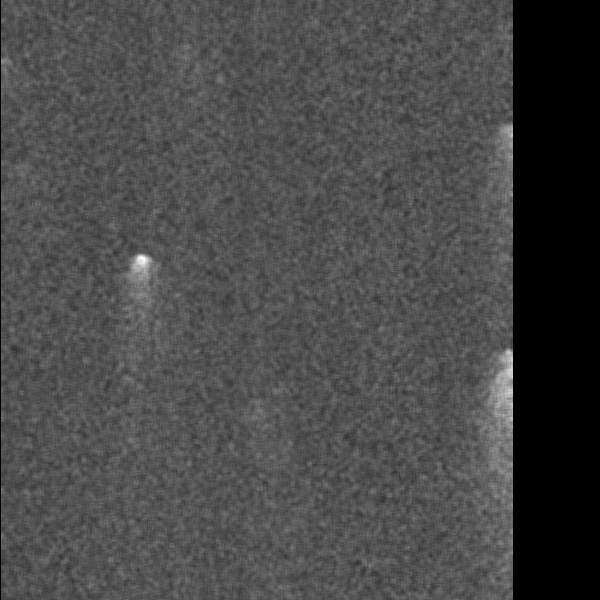spark: (127, 252, 159, 321)
